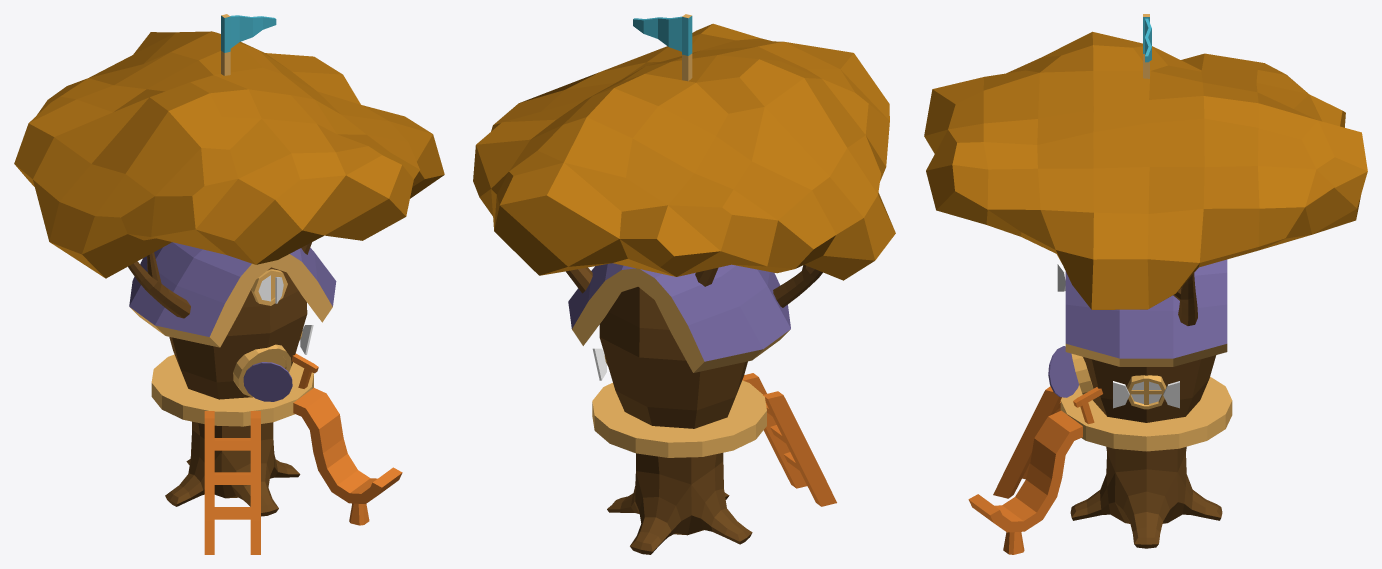
The model's file is sovunya_house.glb.
3 views of the same model, side by side, from view 1: azimuth 30°, elevation 25°; view 2: azimuth 150°, elevation 25°; view 3: azimuth 270°, elevation 25° (orthographic). The views are drawn at different scales.
Parts seen in each view (by area): view 1: Mball.019, Cube, Cube.001, Cylinder, BézierCurve, Cube.003, Cylinder.002, Cube.014, Cube.010, Cylinder.001, Cylinder.004; view 2: Mball.019, Cube, Cube.001, Cylinder, Cube.003, Cube.014, Cube.010; view 3: Mball.019, Cube, Cube.001, Cylinder, BézierCurve, Cube.003, Cylinder.002, Cube.005, Cube.013.
Boxes of the visible parts, left/top/right/bottom form: Mball.019: left=14, top=31, right=444, bottom=278; Cube: left=165, top=267, right=307, bottom=516; Cube.001: left=129, top=242, right=336, bottom=347; Cylinder: left=151, top=354, right=313, bottom=426; BézierCurve: left=293, top=388, right=402, bottom=503; Cube.003: left=204, top=411, right=260, bottom=554; Cylinder.002: left=243, top=362, right=292, bottom=401; Cube.014: left=221, top=14, right=276, bottom=75; Cube.010: left=128, top=252, right=190, bottom=318; Cylinder.001: left=233, top=344, right=291, bottom=396; Cylinder.004: left=251, top=269, right=287, bottom=305; Mball.019: left=473, top=23, right=895, bottom=280; Cube: left=599, top=287, right=752, bottom=554; Cube.001: left=568, top=263, right=790, bottom=372; Cylinder: left=592, top=380, right=766, bottom=457; Cube.003: left=742, top=373, right=836, bottom=506; Cube.014: left=633, top=14, right=692, bottom=81; Cube.010: left=773, top=265, right=822, bottom=307; Mball.019: left=924, top=31, right=1367, bottom=309; Cube: left=1070, top=355, right=1222, bottom=548; Cube.001: left=1065, top=259, right=1227, bottom=366; Cylinder: left=1060, top=376, right=1232, bottom=451; BézierCurve: left=968, top=410, right=1082, bottom=532; Cube.003: left=993, top=386, right=1061, bottom=498; Cylinder.002: left=1048, top=346, right=1078, bottom=397; Cube.005: left=1126, top=375, right=1166, bottom=409; Cube.013: left=1173, top=273, right=1197, bottom=325.
Bounding box in the file's own units: 5.93 × 7.32 × 5.9.
